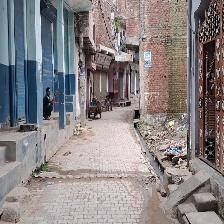Cart: (87, 95, 103, 121)
Drain: (132, 110, 167, 187)
Human: (104, 96, 114, 112)
Road: (17, 102, 178, 223)
